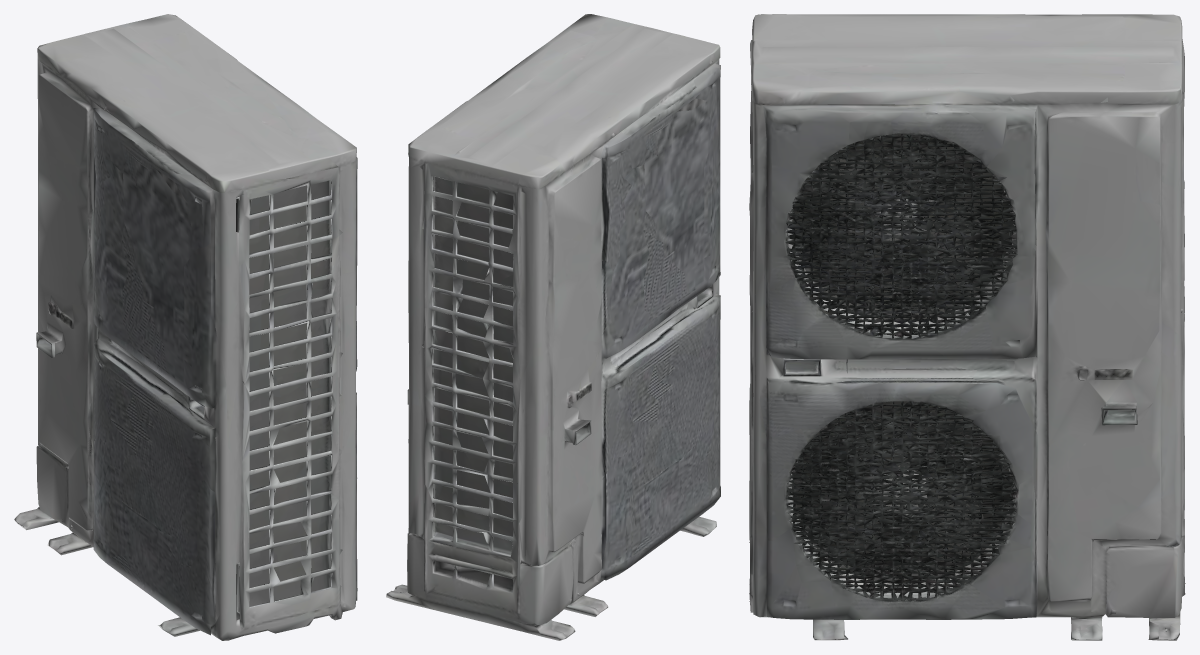
The model's file is bosch-compress-2000-awf-2v.glb.
3 views of the same model, side by side, from view 1: azimuth 30°, elevation 25°; view 2: azimuth 150°, elevation 25°; view 3: azimuth 270°, elevation 25° (orthographic). The views are drawn at different scales.
Parts seen in each view (by area): view 1: tripo_node_c05a81a0-6104-4981-a447-17169d14368e; view 2: tripo_node_c05a81a0-6104-4981-a447-17169d14368e; view 3: tripo_node_c05a81a0-6104-4981-a447-17169d14368e.
Boxes of the visible parts, box(x1,y1,x2,y2) form: tripo_node_c05a81a0-6104-4981-a447-17169d14368e: box(14, 14, 357, 640); tripo_node_c05a81a0-6104-4981-a447-17169d14368e: box(386, 14, 720, 640); tripo_node_c05a81a0-6104-4981-a447-17169d14368e: box(749, 14, 1185, 640).
Size of the model in its own units: 0.4054 by 1 by 0.7331.
1 material, 1 textured.
